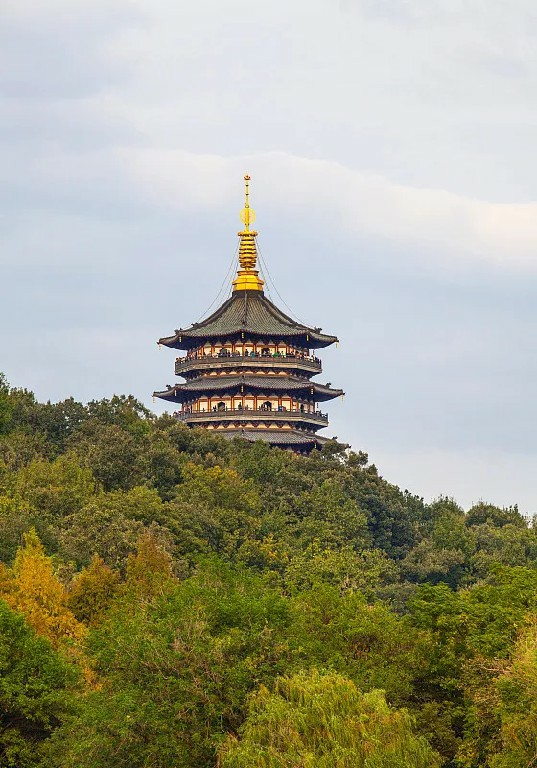Leifeng: (152, 173, 350, 461)
